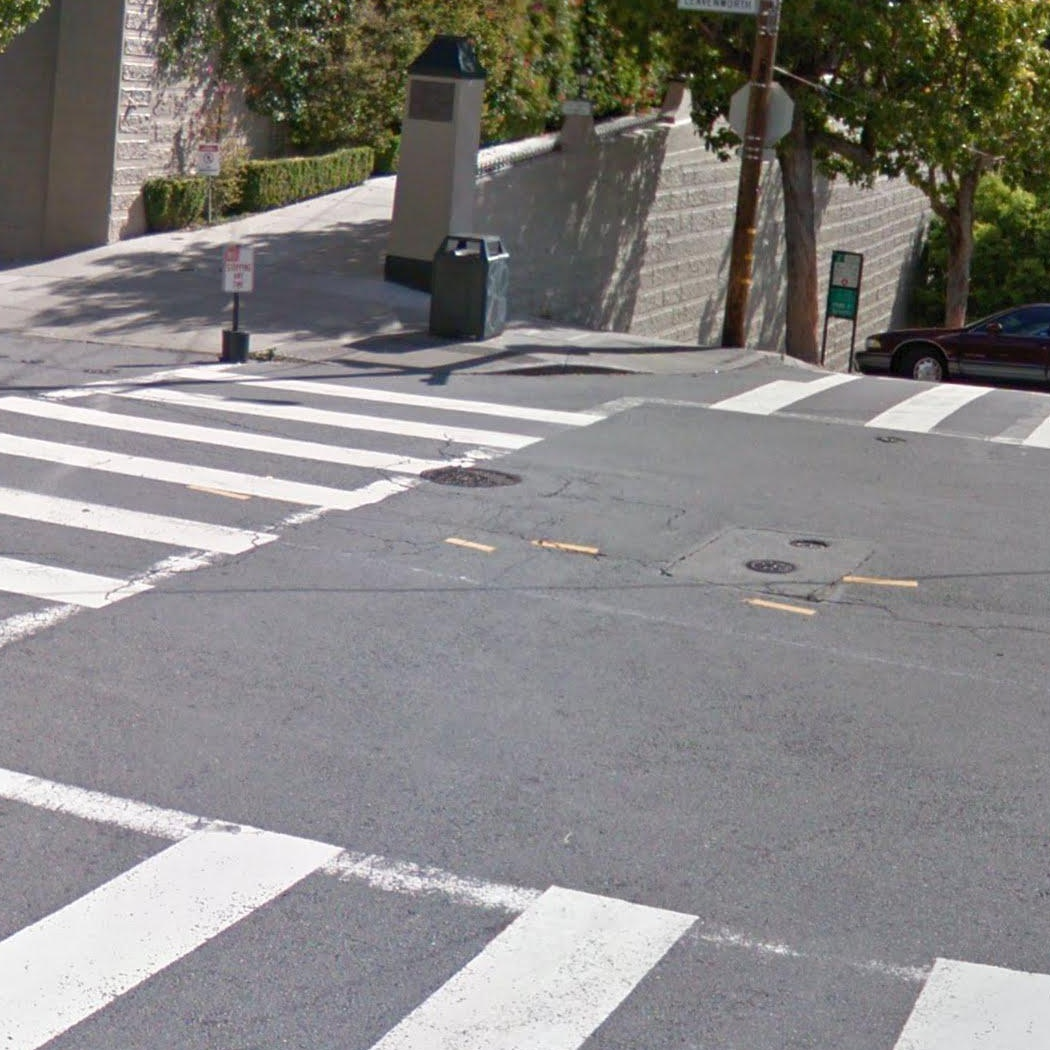1 Hour Parking: (830, 250, 863, 289)
No Parking: (222, 243, 256, 293)
